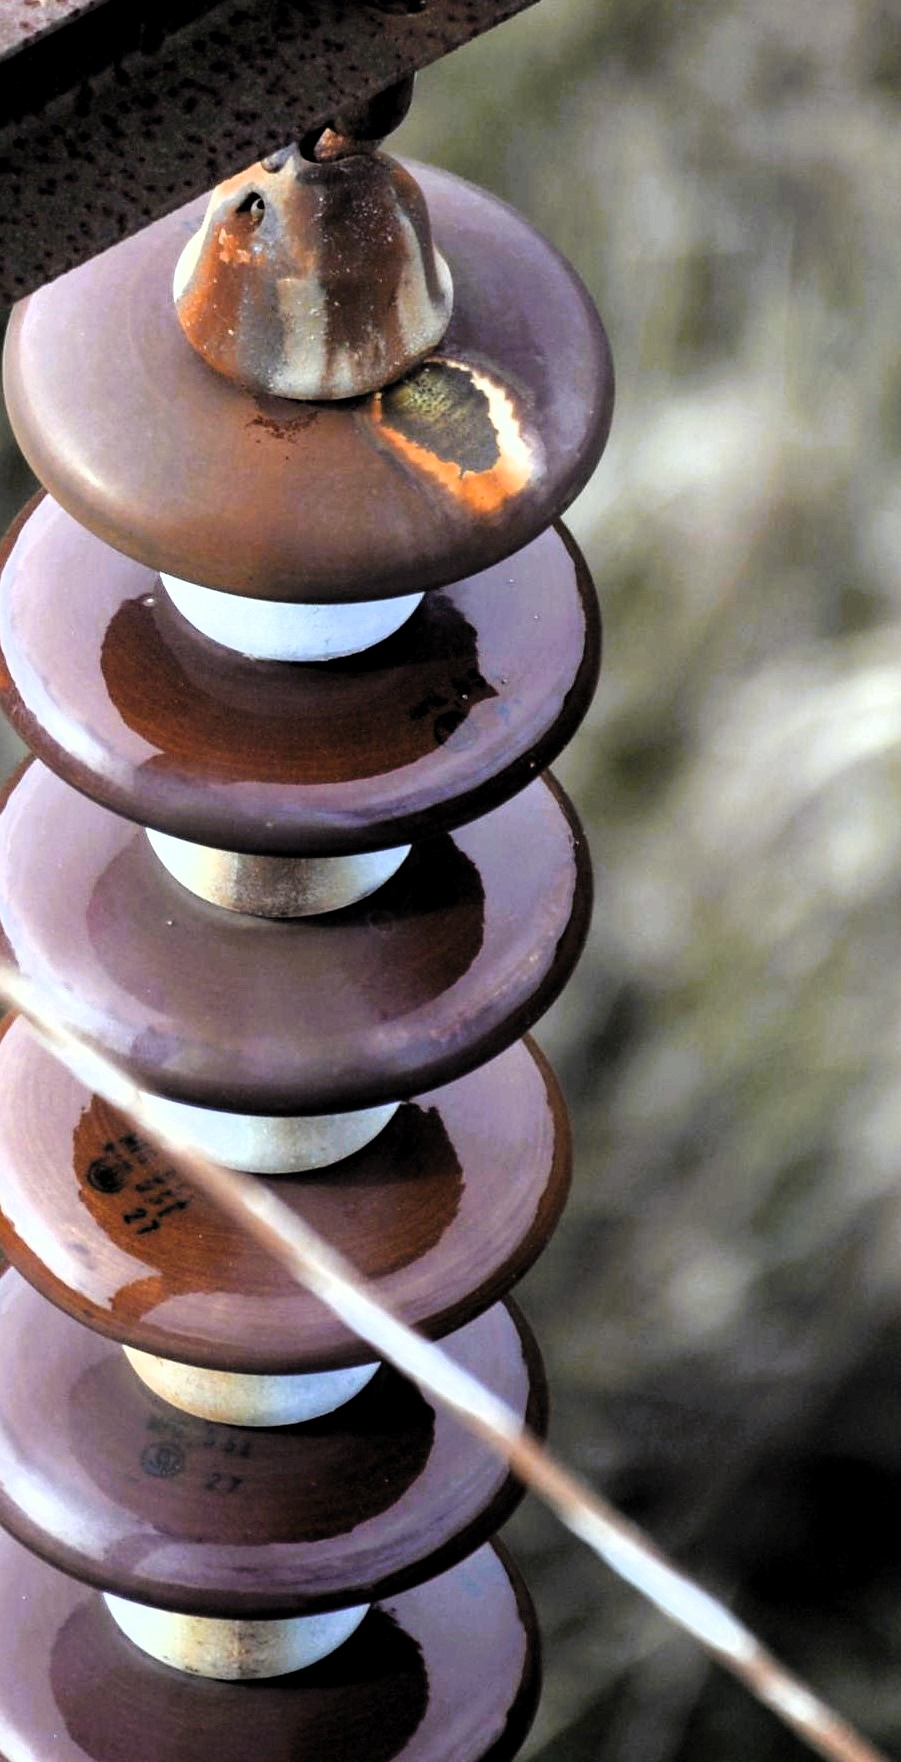Insulator flashover: (1, 140, 627, 608)
